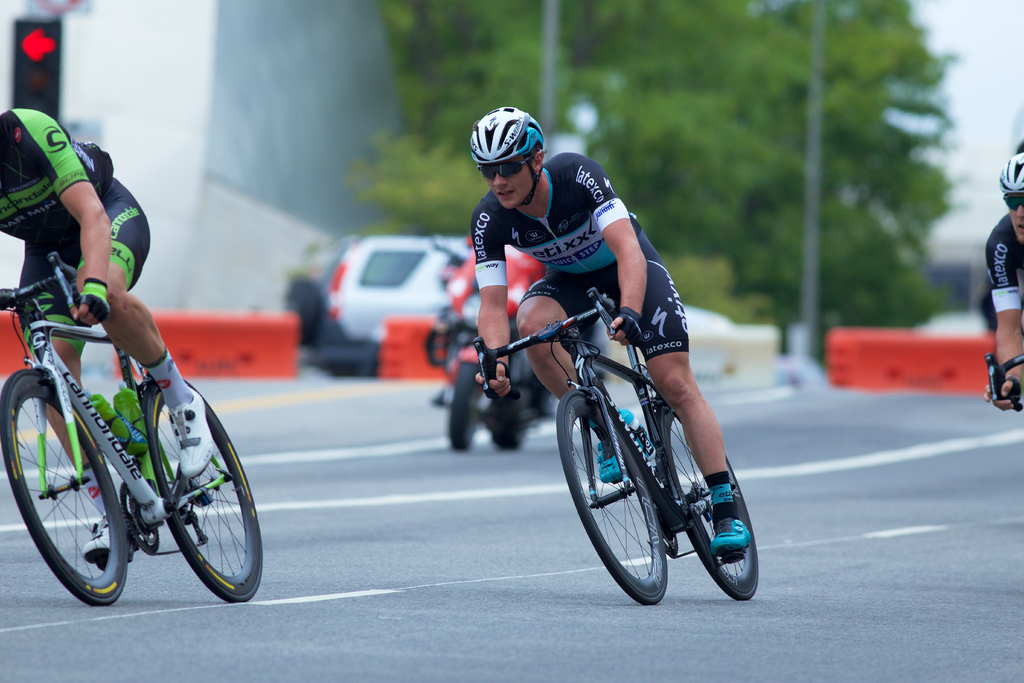Bike_toward: (455, 300, 766, 620)
